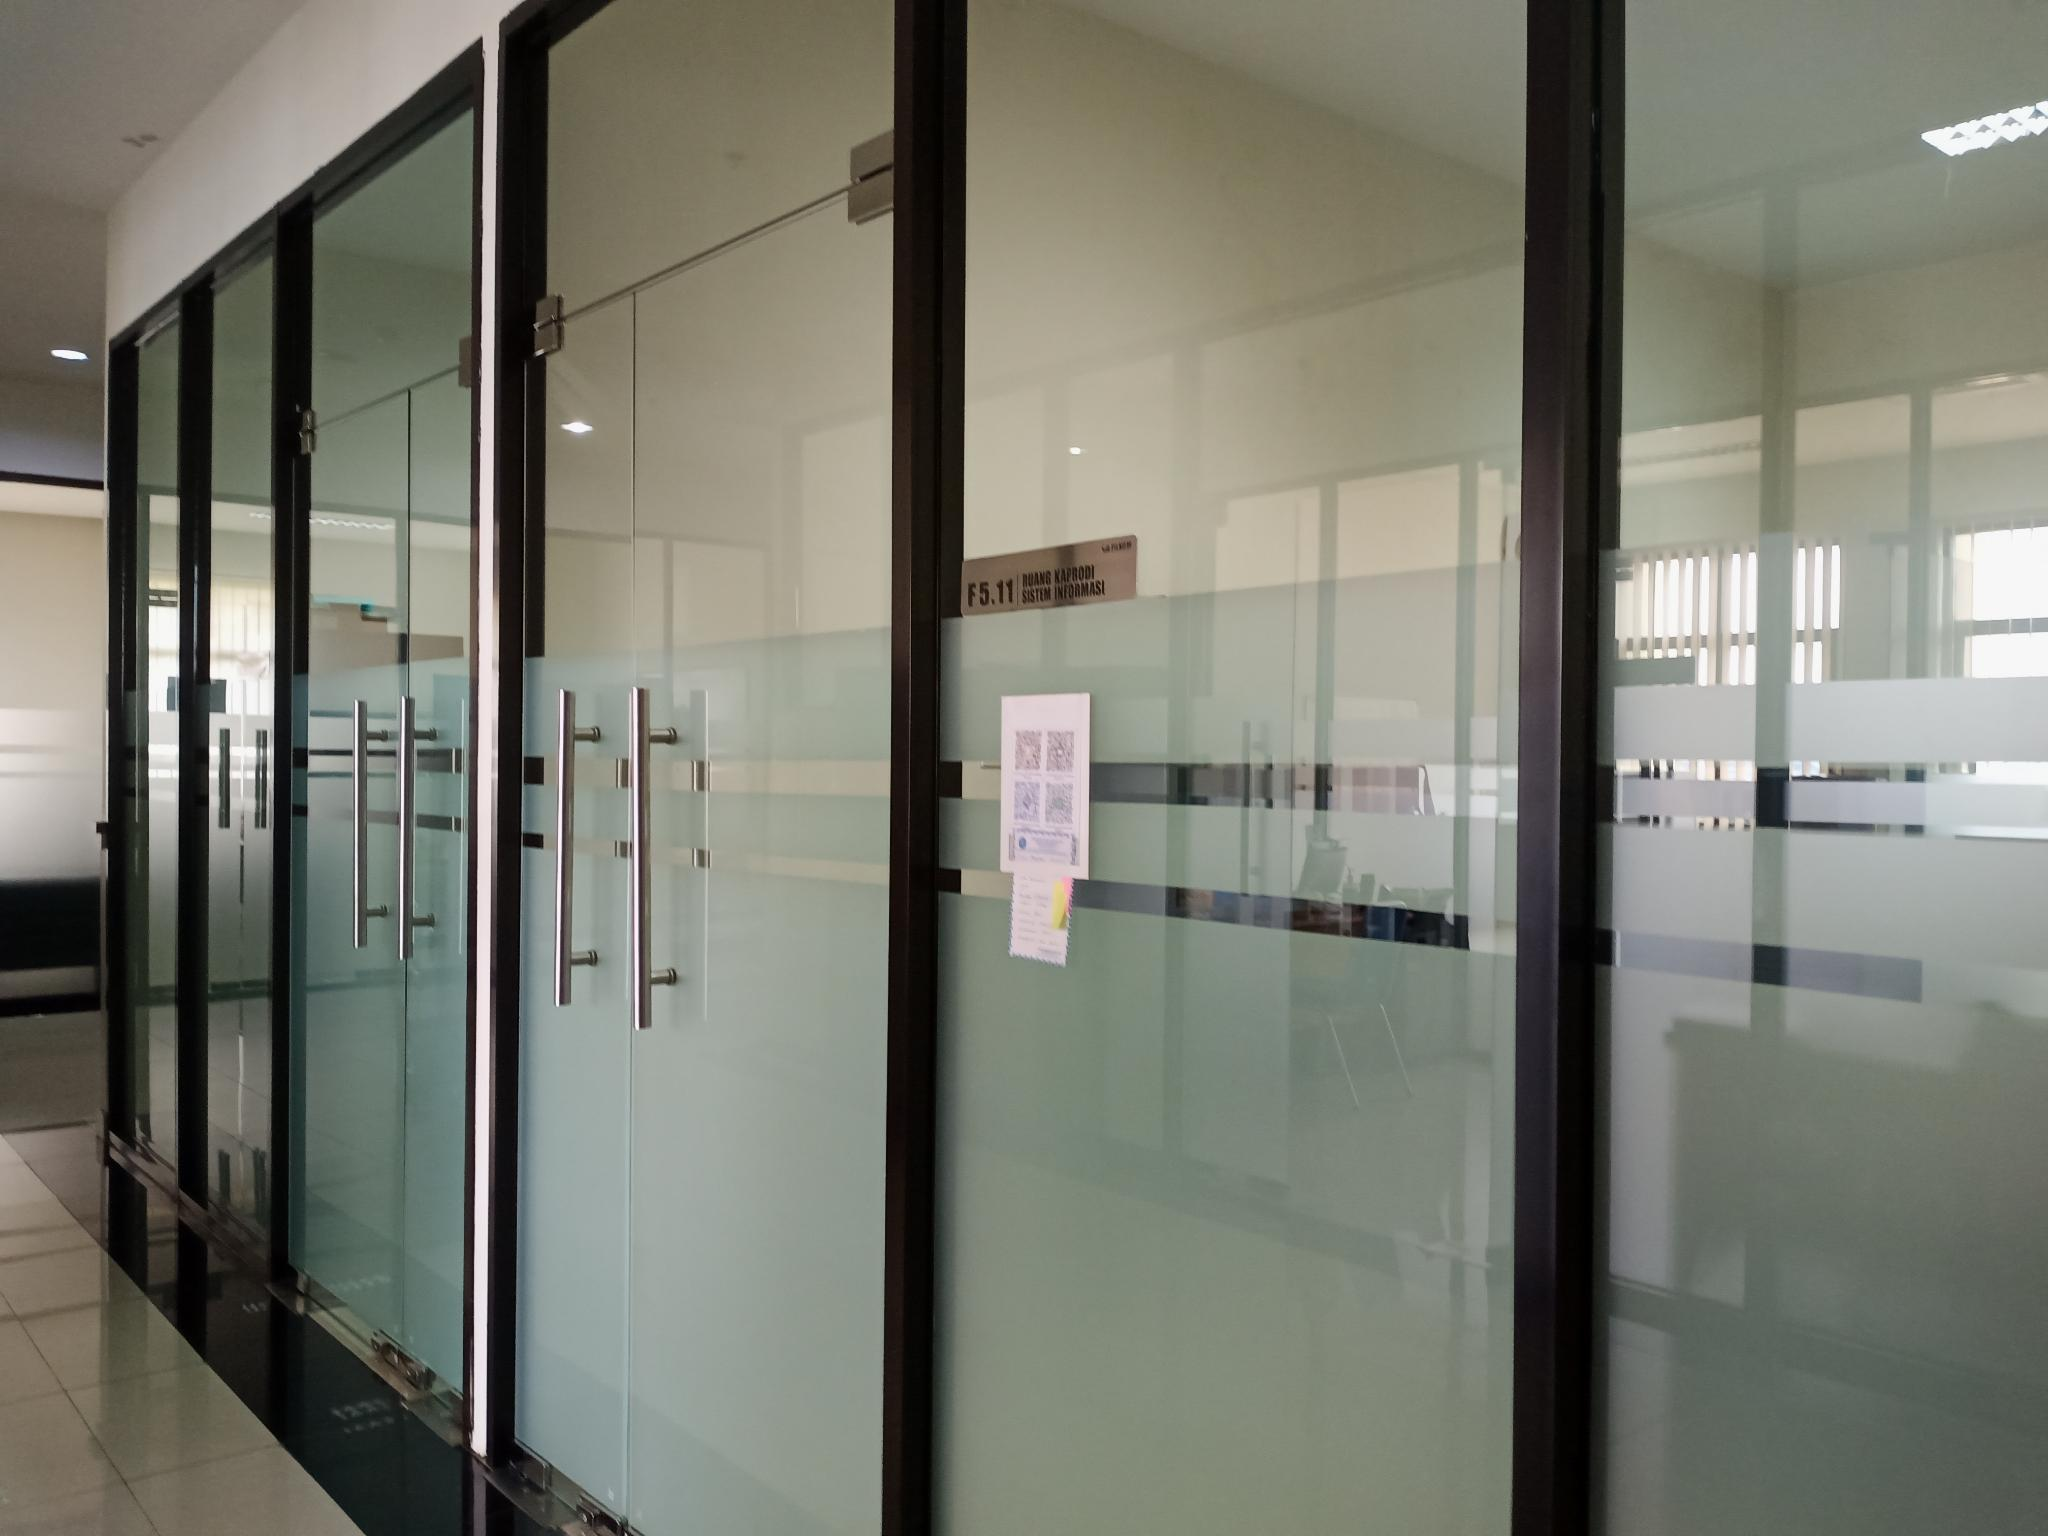plate: (959, 534, 1138, 616)
